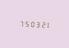five: (22, 19, 26, 27)
one: (43, 20, 47, 28)
seven: (17, 19, 21, 27)
three: (33, 19, 37, 28)
two: (38, 20, 42, 28)
zero: (28, 19, 32, 27)
